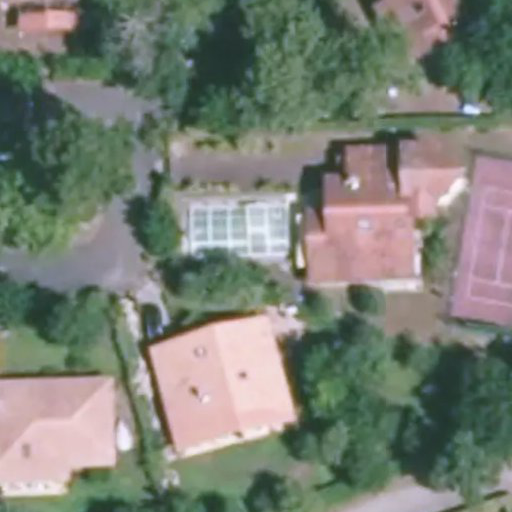pool: (212, 220, 299, 263)
